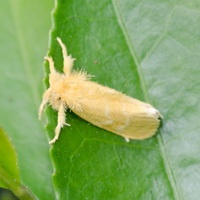insect: (38, 37, 161, 143)
